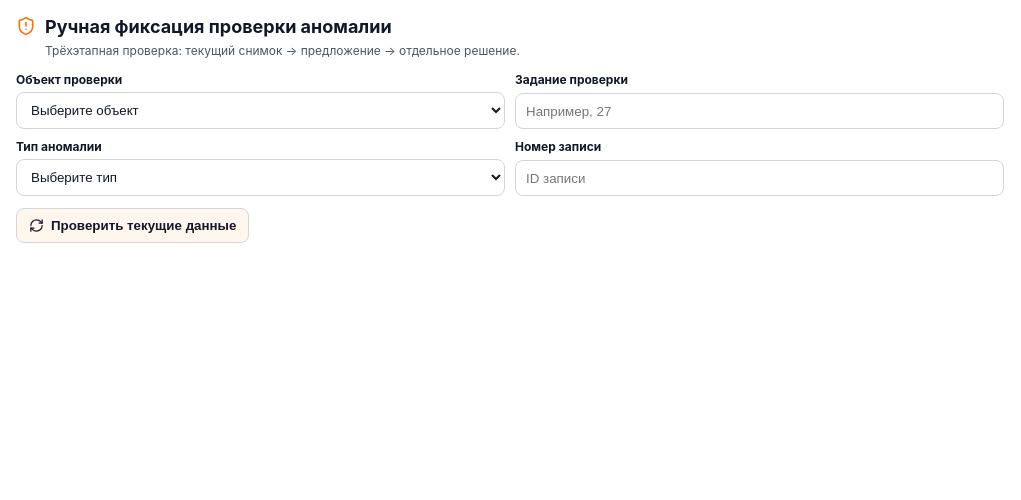
Test case: HumanApprovedActionReviewPanel › shows the exact read-only preview and fixed no-correction consequence before proposal
Select "Школа № 8" in the dropdown labelled "Объект проверки" at point(260, 110), box top-left (16, 92), bottom-right (505, 129)
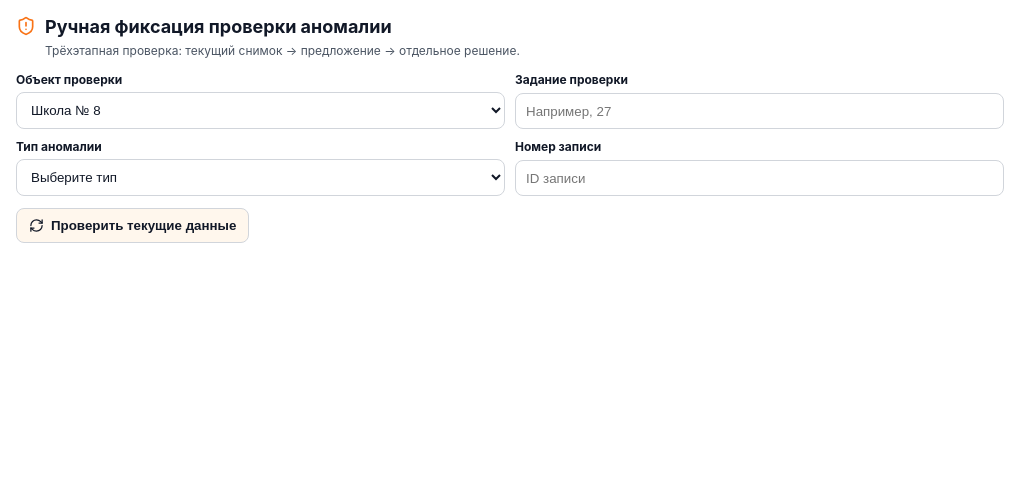
Type "27" into the field labelled "Задание проверки" at point(760, 111), box top-left (515, 93), bottom-right (1004, 129)
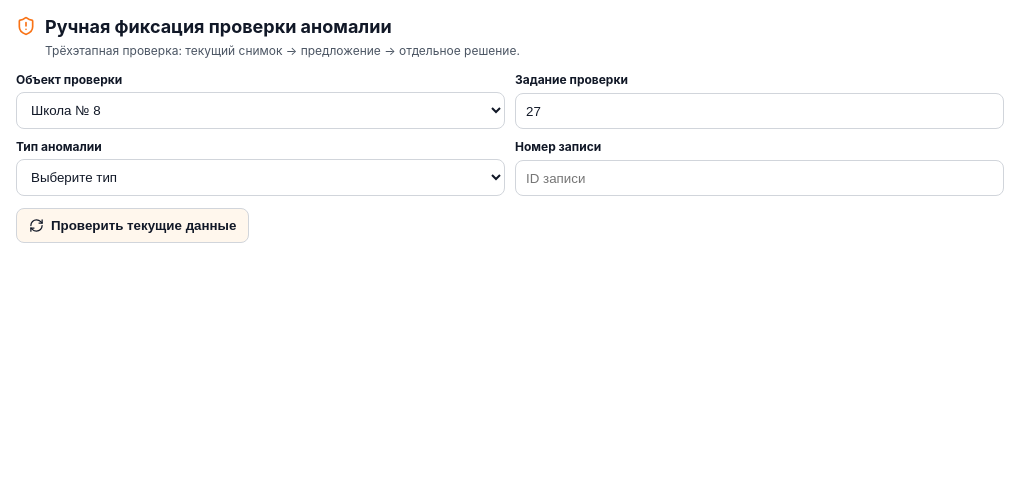
Select "Накладная относится к другому объекту" in the dropdown labelled "Тип аномалии" at point(260, 178), box top-left (16, 159), bottom-right (505, 196)
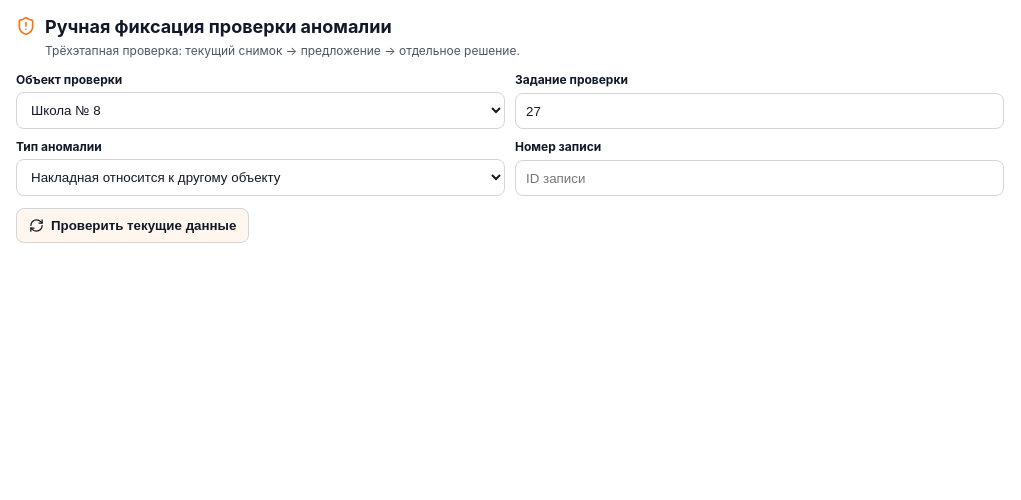
Type "91" into the field labelled "Номер записи" at point(760, 178), box top-left (515, 160), bottom-right (1004, 196)
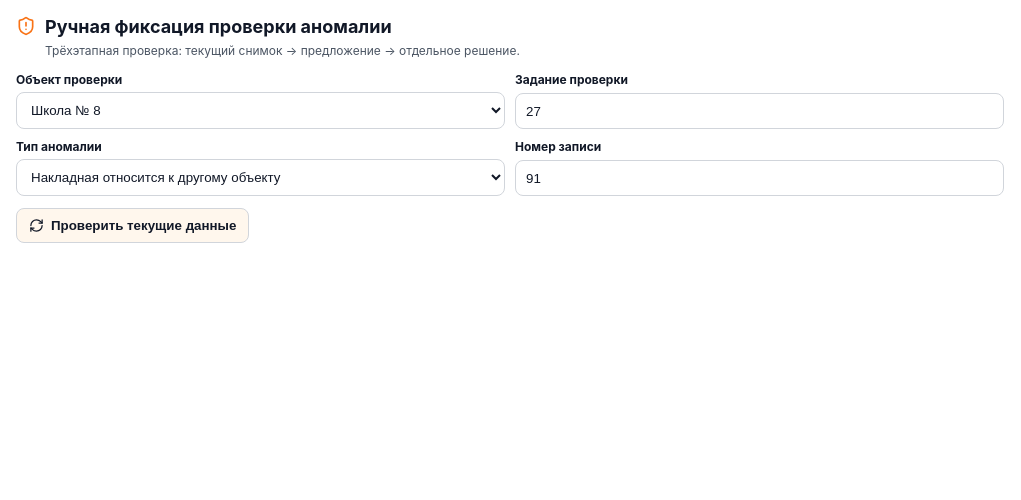
Click the button "Проверить текущие данные" at point(133, 226), box top-left (16, 208), bottom-right (249, 243)
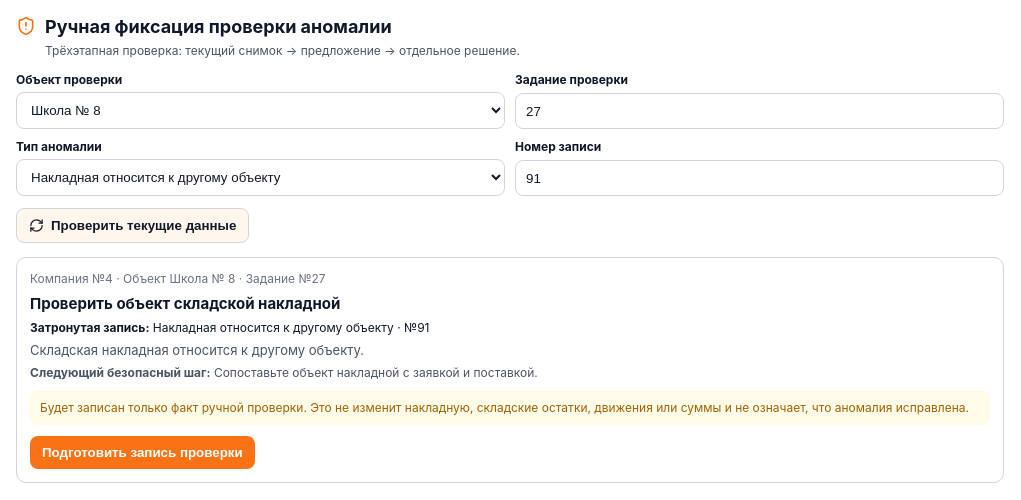
Now the heading "Проверить объект складской накладной" is shown, box top-left (30, 294), bottom-right (340, 313)
Now the text "Складская накладная относится к другому объекту." is shown, box top-left (30, 342), bottom-right (364, 358)
Now the text "не изменит накладную, складские остатки, движения или суммы" is shown, box top-left (40, 400), bottom-right (969, 415)
